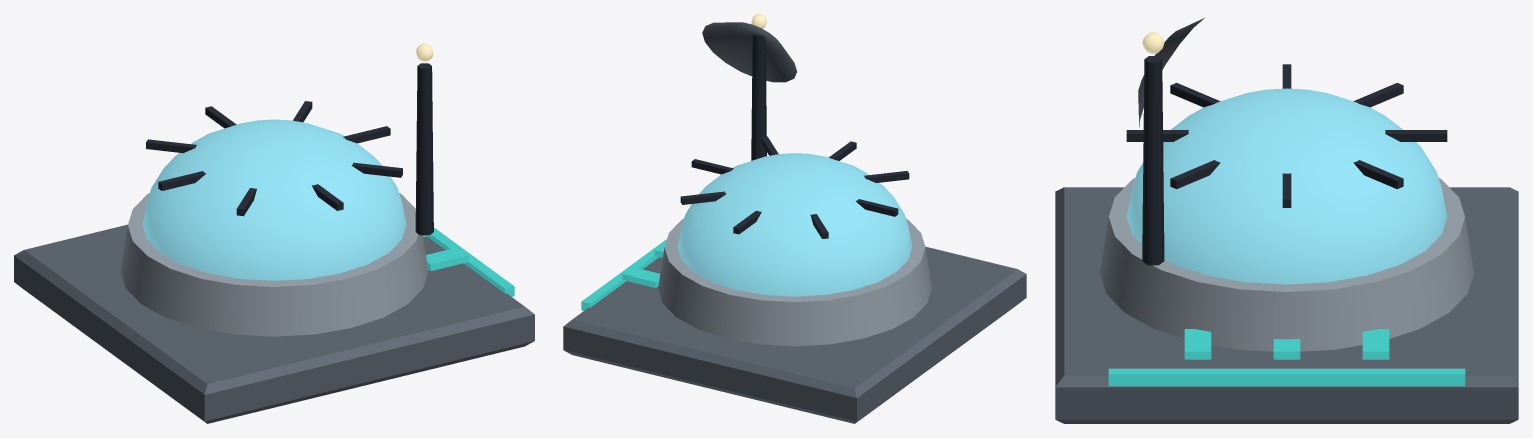
The model's file is science.glb.
3 renders of one model, left to right at view 1: azimuth 30°, elevation 25°; view 2: azimuth 150°, elevation 25°; view 3: azimuth 270°, elevation 25°, orthographic. The views are drawn at different scales.
Visible parts, largest first — view 1: science; view 2: science; view 3: science.
Boxes of the visible parts, box(x1,y1,x2,y2) form: science: box(14, 43, 534, 423); science: box(563, 14, 1026, 423); science: box(1055, 17, 1518, 423).
Bounding box in the file's own units: 1.04 × 0.901 × 1.04.
